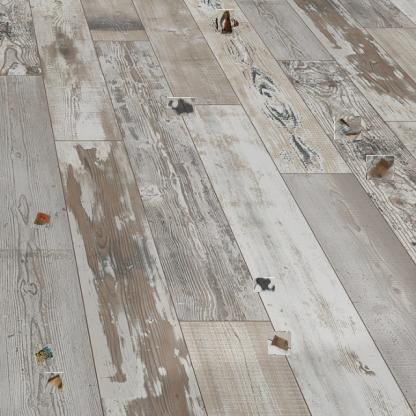dirty: (366, 155, 394, 180), (334, 116, 361, 140), (34, 344, 56, 366), (268, 332, 290, 354), (216, 12, 237, 34), (44, 372, 64, 393), (31, 211, 53, 230)
liquid: (167, 97, 195, 116), (253, 277, 275, 292)
